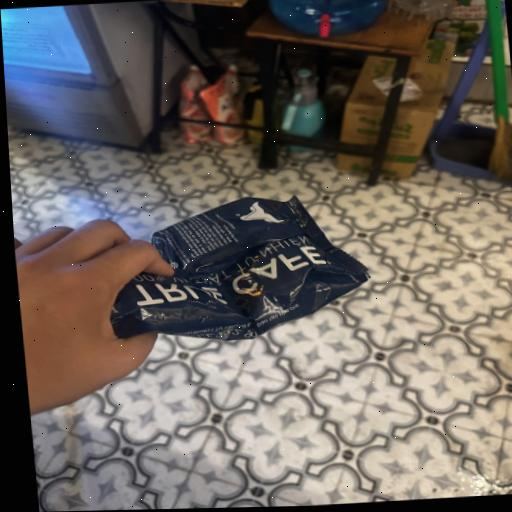cafe_hat: (110, 195, 368, 340)
